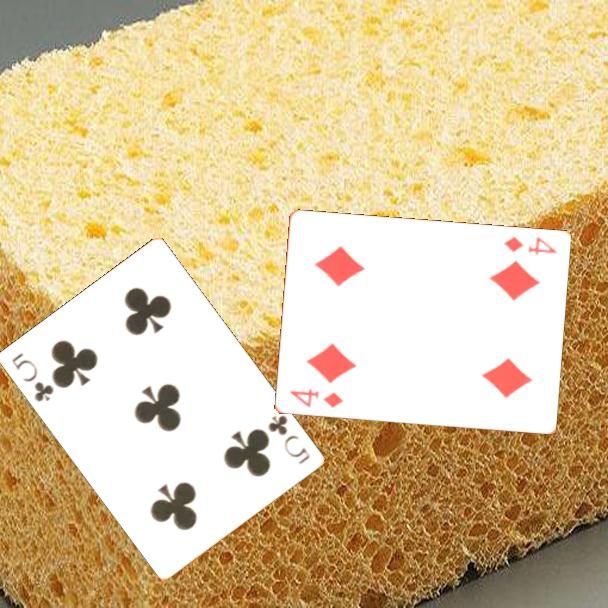c05: (8, 349, 57, 405), (265, 412, 313, 467)
d04: (287, 386, 346, 411), (500, 233, 559, 258)
